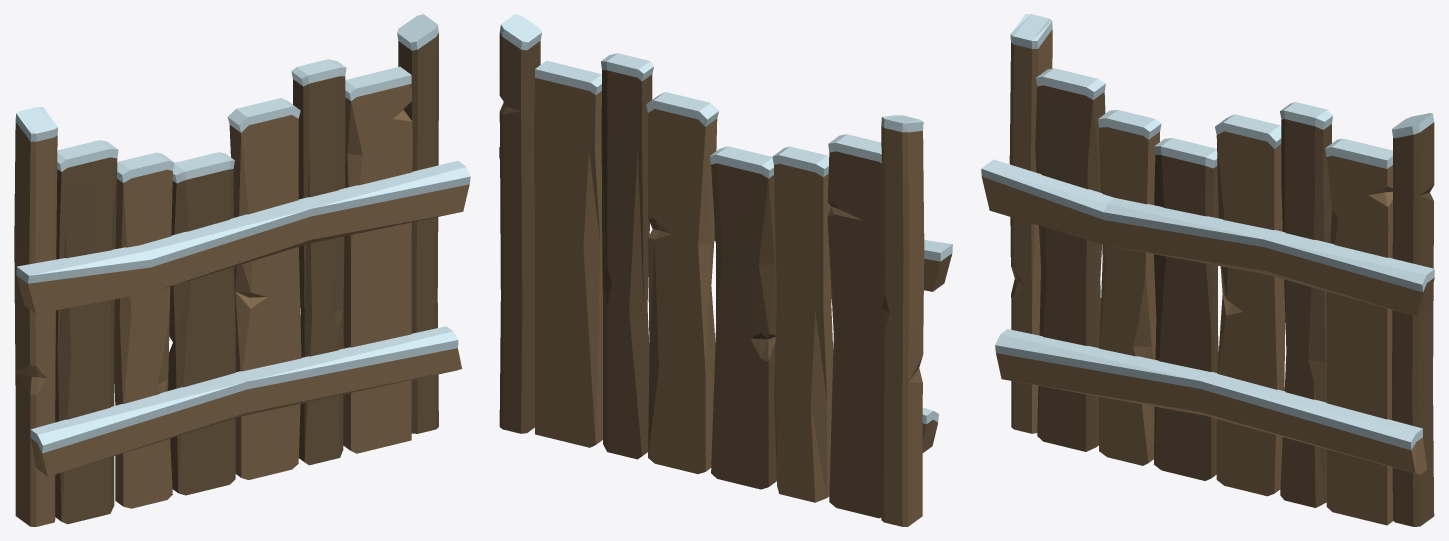
The model's file is Cerca_Madera01.glb.
3 views of the same model, side by side, from view 1: azimuth 30°, elevation 25°; view 2: azimuth 150°, elevation 25°; view 3: azimuth 330°, elevation 25° (orthographic).
Parts seen in each view (by area): view 1: SM_Prop_Fence_Wood_01_Snow; view 2: SM_Prop_Fence_Wood_01_Snow; view 3: SM_Prop_Fence_Wood_01_Snow.
Boxes of the visible parts, <box> form: SM_Prop_Fence_Wood_01_Snow: <box>14,14,470,526</box>; SM_Prop_Fence_Wood_01_Snow: <box>499,14,952,526</box>; SM_Prop_Fence_Wood_01_Snow: <box>981,14,1434,526</box>.
Bounding box in the file's own units: 1.96 × 1.72 × 0.2348.
Materials: 1 (1 with a texture image).
